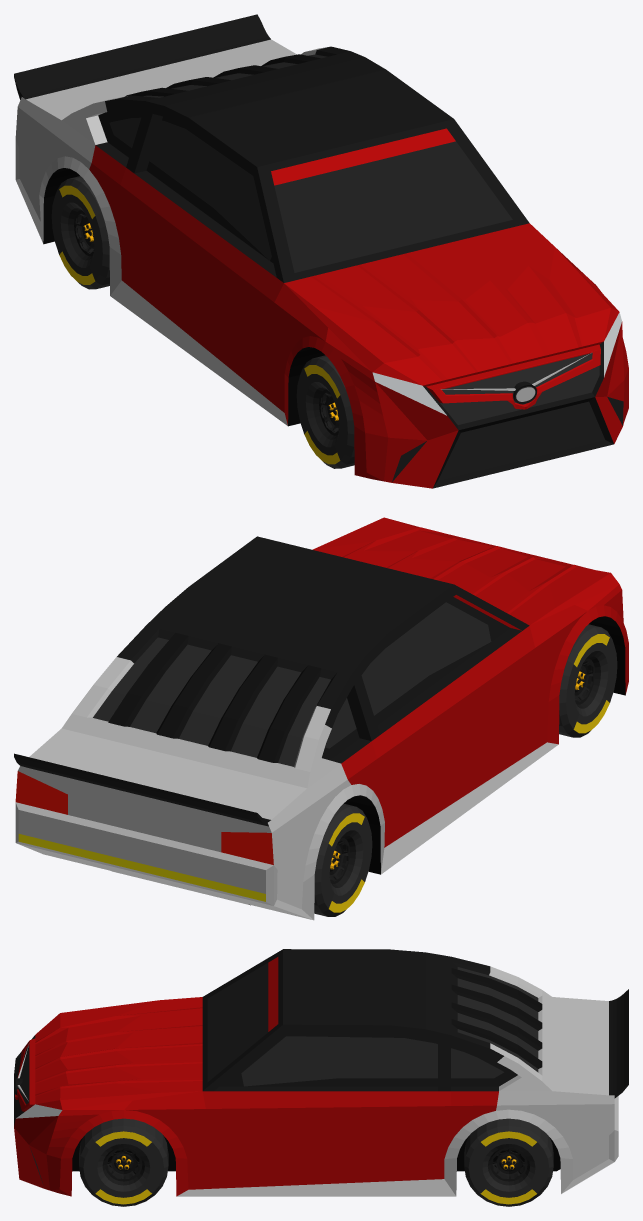
The model's file is stock-camry-ns.glb.
The picture shows the model from 3 angles, top to bottom: view 1: azimuth 30°, elevation 25°; view 2: azimuth 150°, elevation 25°; view 3: azimuth 270°, elevation 25°; orthographic projection. The views are drawn at different scales.
Visible parts, largest first — view 1: body_standard, wheel_star_bolt.002, wheel_star_bolt.004; view 2: body_standard, wheel_star_bolt.004, wheel_star_bolt.002; view 3: body_standard, wheel_star_bolt.001, wheel_star_bolt.003.
Part boxes in pixels (left/top/right/bottom): body_standard: left=14, top=14, right=628, bottom=488; wheel_star_bolt.002: left=51, top=176, right=109, bottom=289; wheel_star_bolt.004: left=296, top=355, right=354, bottom=468; body_standard: left=14, top=517, right=628, bottom=920; wheel_star_bolt.004: left=559, top=624, right=617, bottom=737; wheel_star_bolt.002: left=314, top=803, right=372, bottom=916; body_standard: left=14, top=949, right=628, bottom=1196; wheel_star_bolt.001: left=79, top=1118, right=168, bottom=1206; wheel_star_bolt.003: left=464, top=1118, right=553, bottom=1206.
Size of the model in its own units: 1.95 by 1.49 by 4.88.
